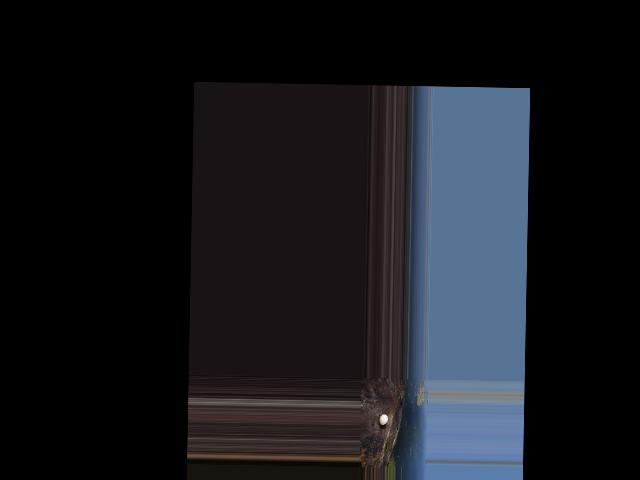egg: (379, 413, 388, 424)
